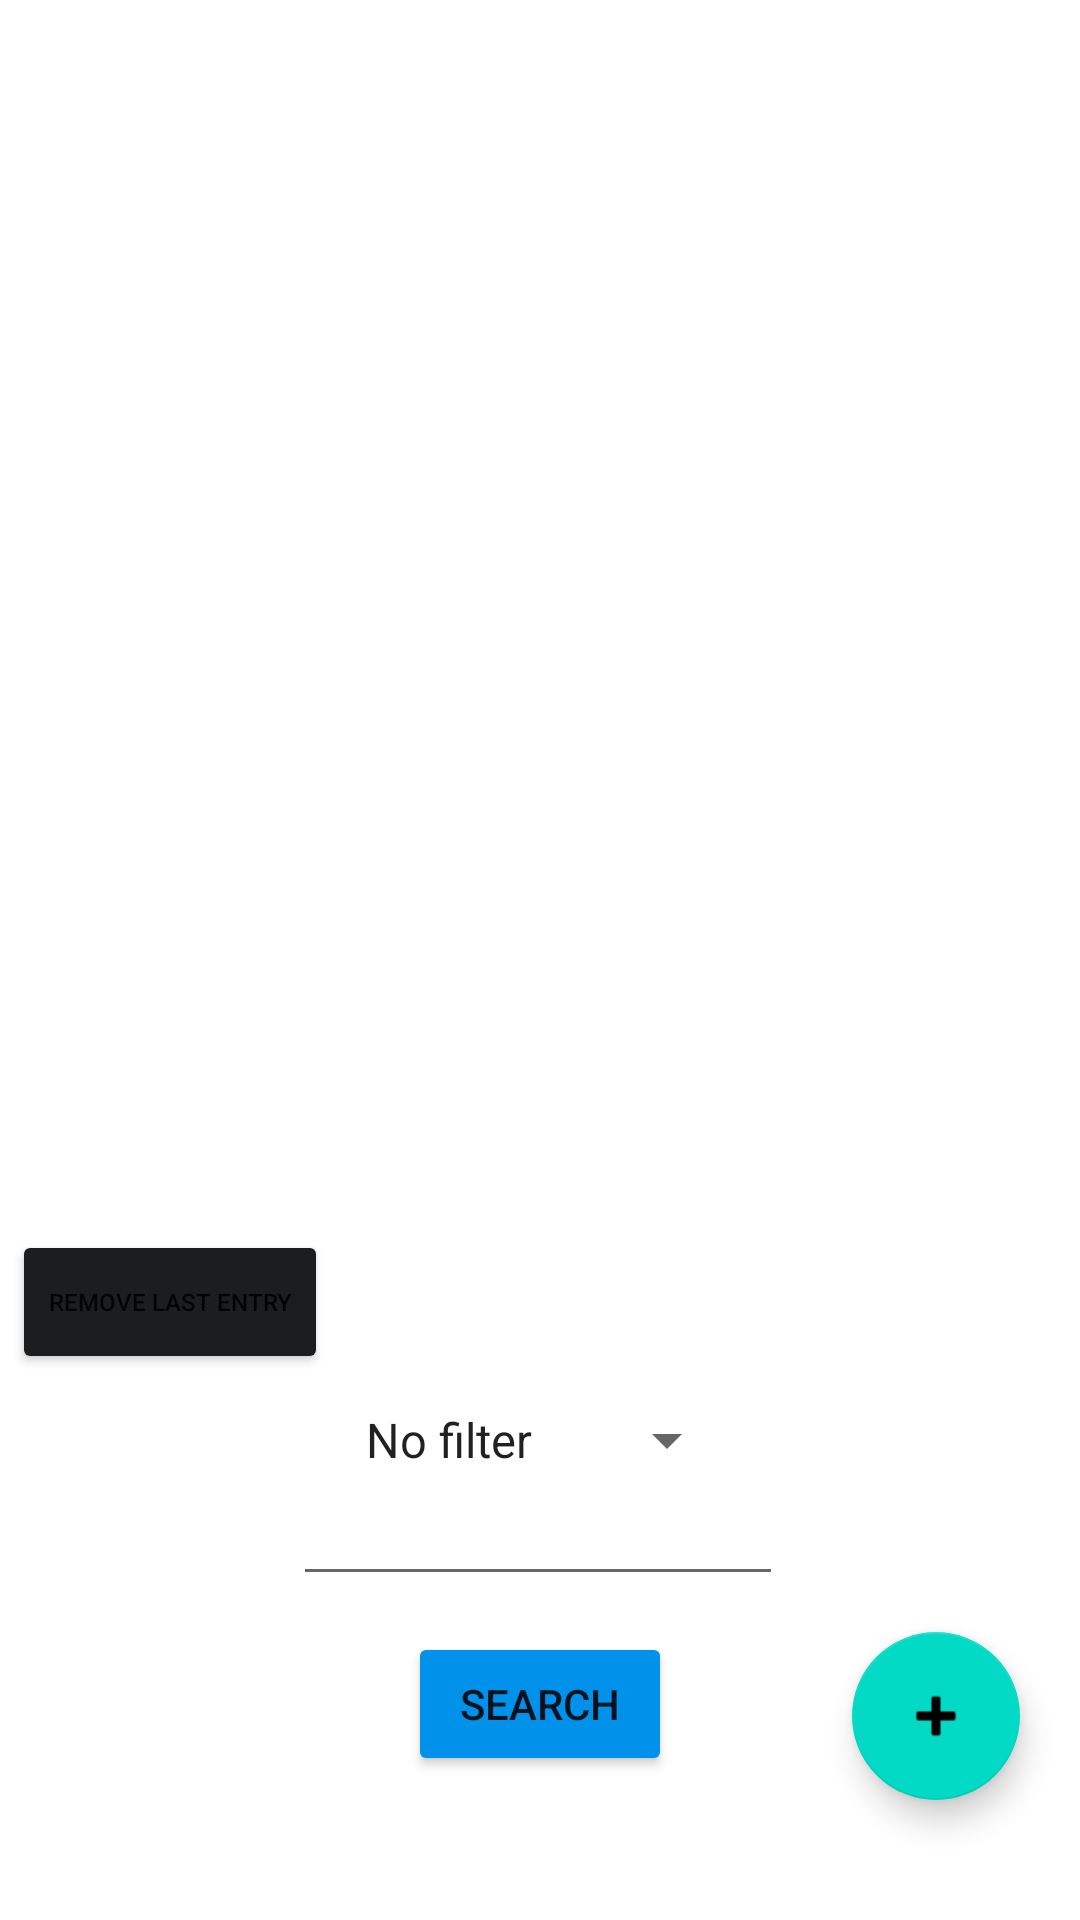

Icon click points for this 1080*1920 phone screenshot, format (x=x, y=y):
add: (x=936, y=1716)
